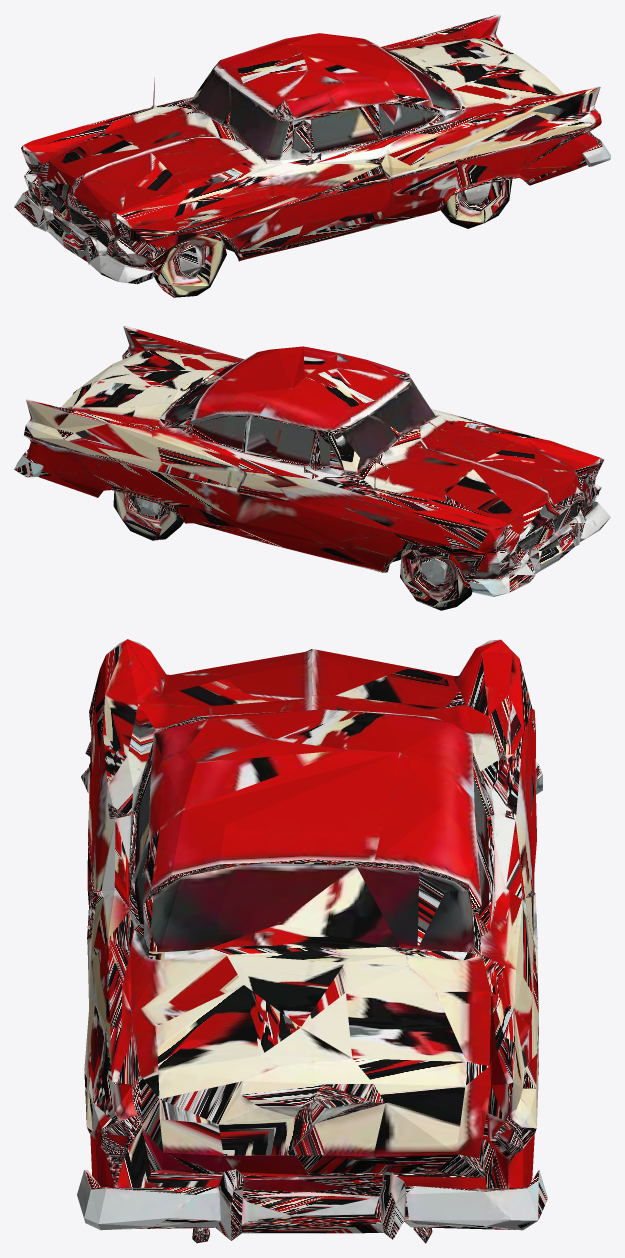
Rendered from car_sedan_2.glb.
3 views of the same model, one above another, from view 1: azimuth 30°, elevation 25°; view 2: azimuth 150°, elevation 25°; view 3: azimuth 270°, elevation 25° (orthographic). The views are drawn at different scales.
Parts seen in each view (by area): view 1: normalize; view 2: normalize; view 3: normalize.
Part boxes in pixels (bbox=[...]): normalize: bbox=[14, 14, 610, 297]; normalize: bbox=[14, 326, 610, 610]; normalize: bbox=[77, 639, 547, 1243].
Size of the model in its own units: 1 by 0.3163 by 0.4122.
1 material, 1 textured.
